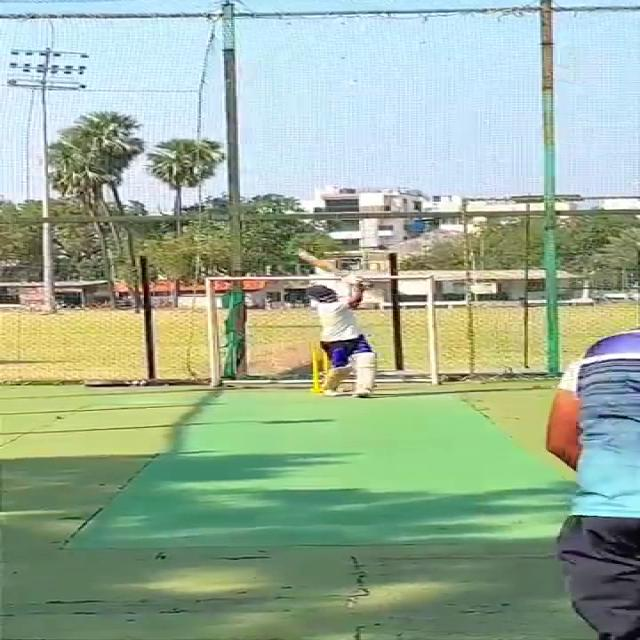batsman: (292, 246, 385, 399)
